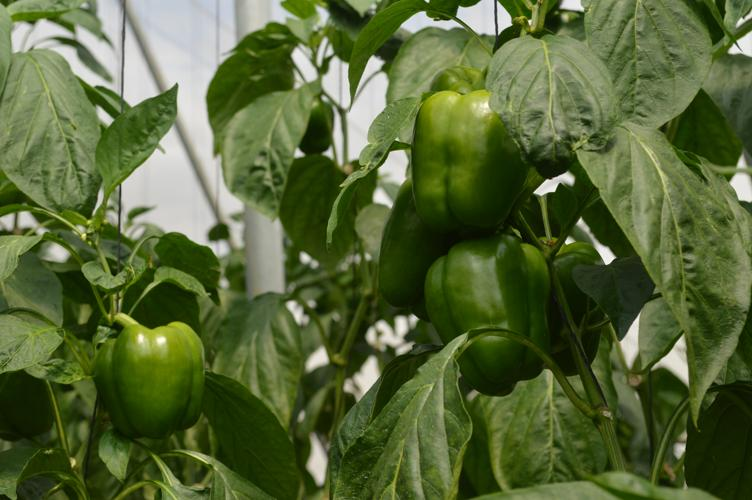BellPepper: (423, 235, 562, 393), (410, 92, 521, 229), (88, 325, 206, 426), (368, 182, 450, 306), (541, 235, 606, 370), (286, 103, 341, 161)
